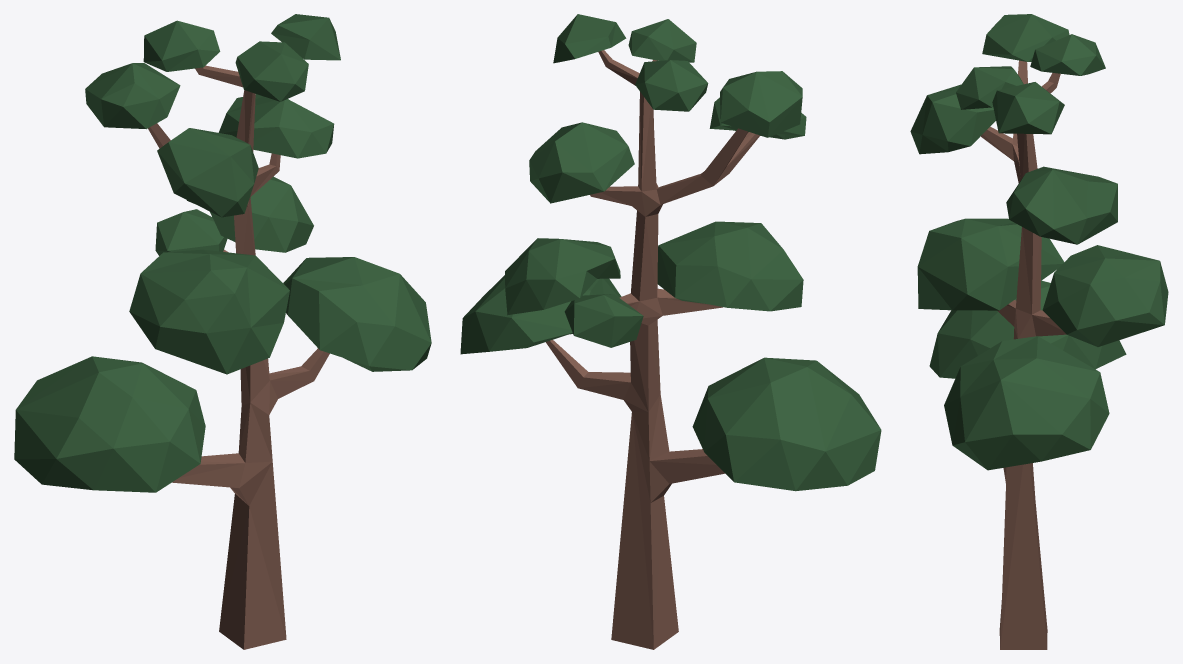
The model's file is trop-seasonal.tall-op0.5.gltf.
3 renders of one model, left to right at view 1: azimuth 30°, elevation 25°; view 2: azimuth 150°, elevation 25°; view 3: azimuth 270°, elevation 25°, orthographic. The views are drawn at different scales.
Visible parts, largest first — view 1: Tree6_1; view 2: Tree6_1; view 3: Tree6_1.
Boxes of the visible parts, x1=… form: Tree6_1: x1=14, y1=14, x2=431, y2=649; Tree6_1: x1=460, y1=14, x2=881, y2=649; Tree6_1: x1=910, y1=14, x2=1168, y2=649.
Bounding box in the file's own units: 4.54 × 6.8 × 2.73.
Materials: 1 (1 with a texture image).
